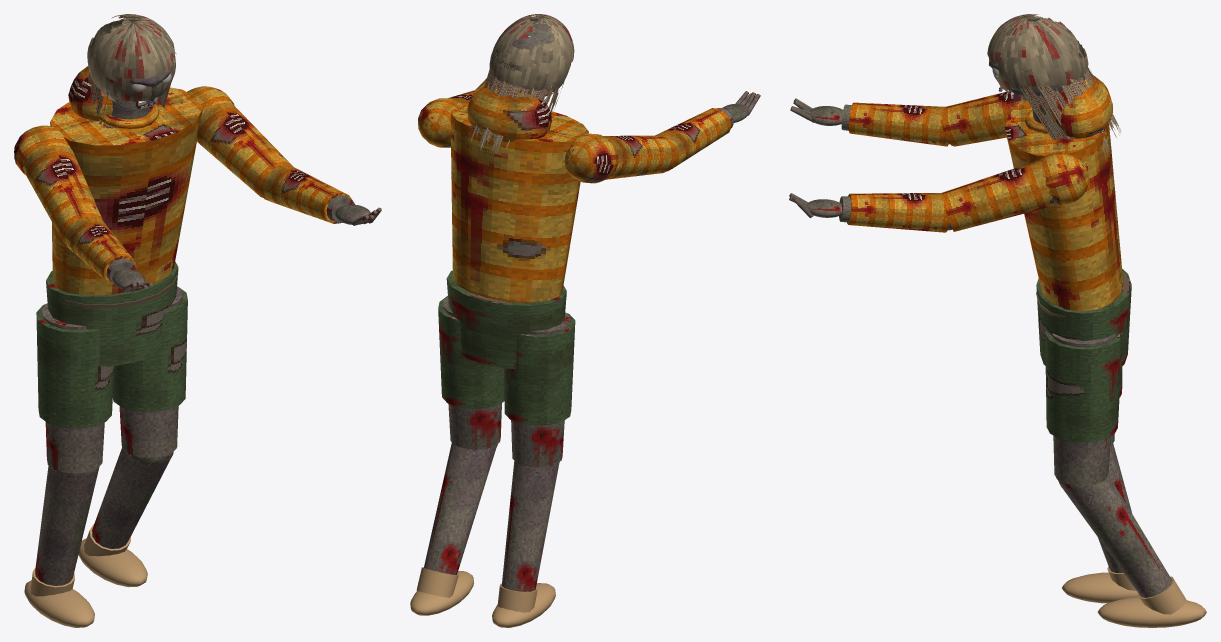
The model's file is Zombie_140.glb.
3 renders of one model, left to right at view 1: azimuth 30°, elevation 25°; view 2: azimuth 150°, elevation 25°; view 3: azimuth 270°, elevation 25°, orthographic. The views are drawn at different scales.
Parts seen in each view (by area): view 1: Zombie_140, object 42, object 12, object 4, object 43, object 13; view 2: Zombie_140, object 43, object 4, object 42, object 18, object 49; view 3: Zombie_140, object 43, object 12, object 4, object 42, object 44, object 5.
Part boxes in pixels (x1,y1,x2,y2): Zombie_140: [14, 66, 293, 627]; object 42: [90, 14, 176, 80]; object 12: [259, 164, 351, 223]; object 4: [62, 216, 137, 285]; object 43: [87, 14, 175, 101]; object 13: [335, 204, 370, 224]; Zombie_140: [410, 85, 676, 627]; object 43: [489, 16, 571, 96]; object 4: [655, 108, 731, 171]; object 42: [496, 14, 574, 70]; object 18: [498, 21, 554, 70]; object 49: [480, 65, 521, 153]; Zombie_140: [941, 74, 1206, 627]; object 43: [996, 15, 1088, 96]; object 12: [847, 193, 949, 232]; object 4: [849, 102, 948, 146]; object 42: [987, 14, 1080, 72]; object 44: [1019, 86, 1074, 139]; object 5: [809, 106, 842, 125].
Size of the model in its own units: 0.7515 by 1.78 by 1.13.
16 materials, 6 textured.
